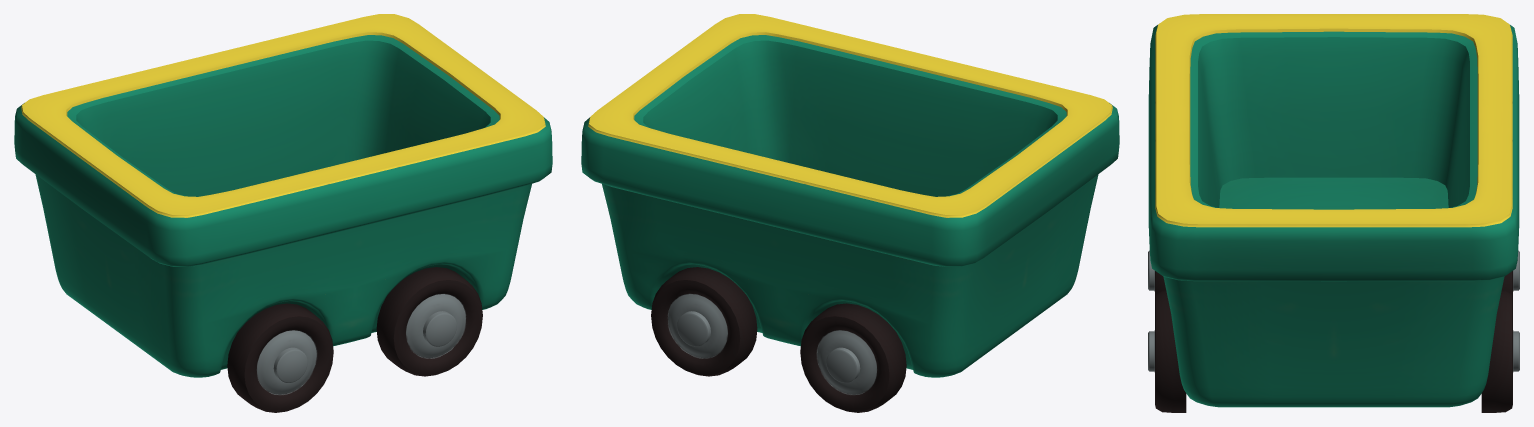
File: xiaohuoche_1.FBX
3 renders of one model, left to right at view 1: azimuth 30°, elevation 25°; view 2: azimuth 150°, elevation 25°; view 3: azimuth 270°, elevation 25°, orthographic. The views are drawn at different scales.
Parts seen in each view (by area): view 1: xiaohuoche_1; view 2: xiaohuoche_1; view 3: xiaohuoche_1.
Part boxes in pixels (<box>): xiaohuoche_1: <box>14,14,552,412</box>; xiaohuoche_1: <box>581,14,1119,412</box>; xiaohuoche_1: <box>1148,14,1519,412</box>.
Size of the model in its own units: 128 by 68.41 by 93.11.
Materials: 1 (1 with a texture image).
